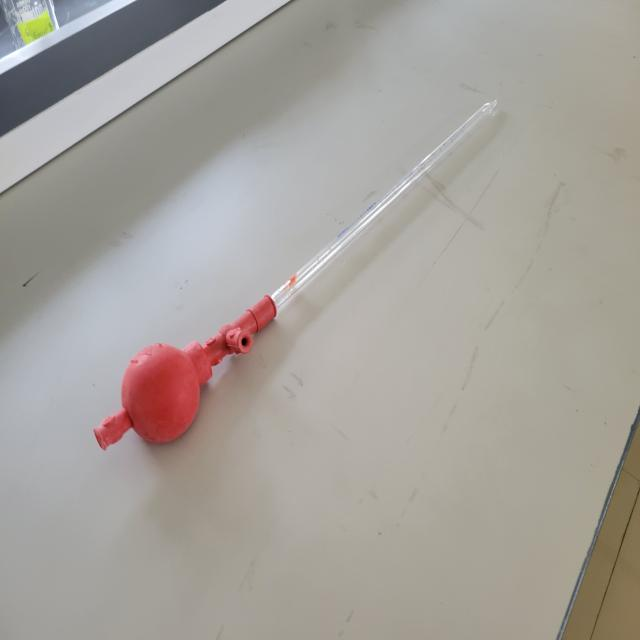Volumetric_Pipet: (51, 51, 564, 490)
